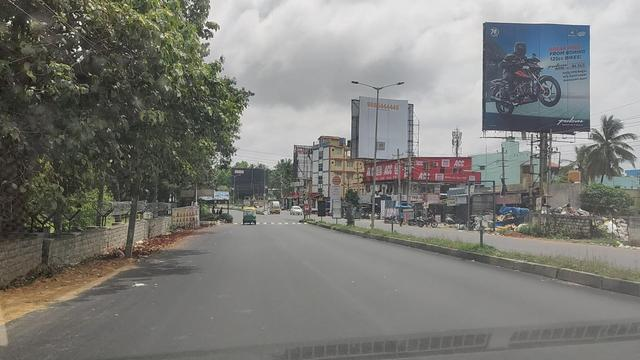LMV: (242, 207, 254, 223)
SpeedBump: (236, 219, 306, 226)
